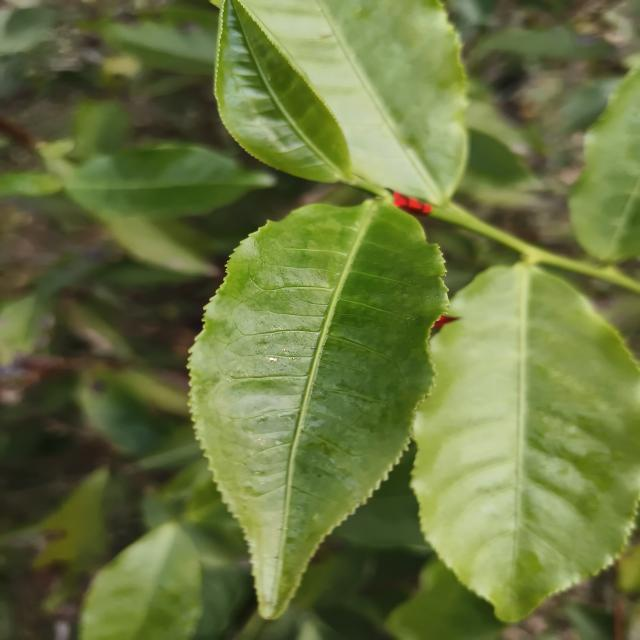Leaf: (189, 201, 447, 619), (414, 263, 640, 622), (244, 0, 467, 205), (215, 0, 354, 182), (65, 144, 275, 219), (80, 522, 202, 640), (569, 67, 640, 262), (92, 213, 217, 276), (78, 372, 159, 455), (102, 21, 216, 75), (475, 25, 612, 60), (0, 294, 48, 366)
